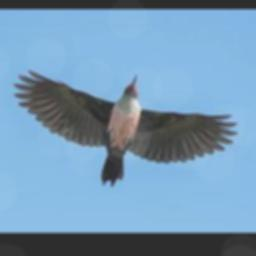Woodpecker: (14, 70, 237, 186)
